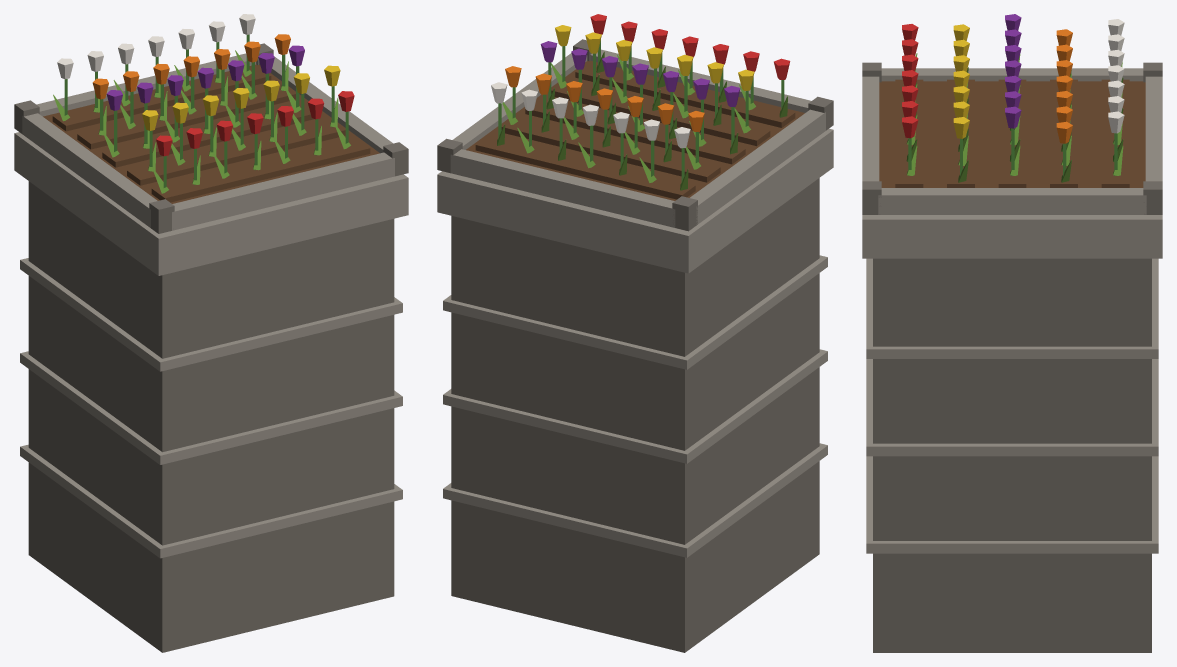
Rendered from decor_tulip_bed.glb.
3 renders of one model, left to right at view 1: azimuth 30°, elevation 25°; view 2: azimuth 150°, elevation 25°; view 3: azimuth 270°, elevation 25°, orthographic. The views are drawn at different scales.
Visible parts, largest first — view 1: decor_tulip_bed; view 2: decor_tulip_bed; view 3: decor_tulip_bed.
Boxes of the visible parts, x1,y1,x2,y2 form: decor_tulip_bed: [14, 14, 408, 652]; decor_tulip_bed: [437, 14, 833, 652]; decor_tulip_bed: [862, 14, 1162, 652].
Bounding box in the file's own units: 2.8 × 5.42 × 2.8.
